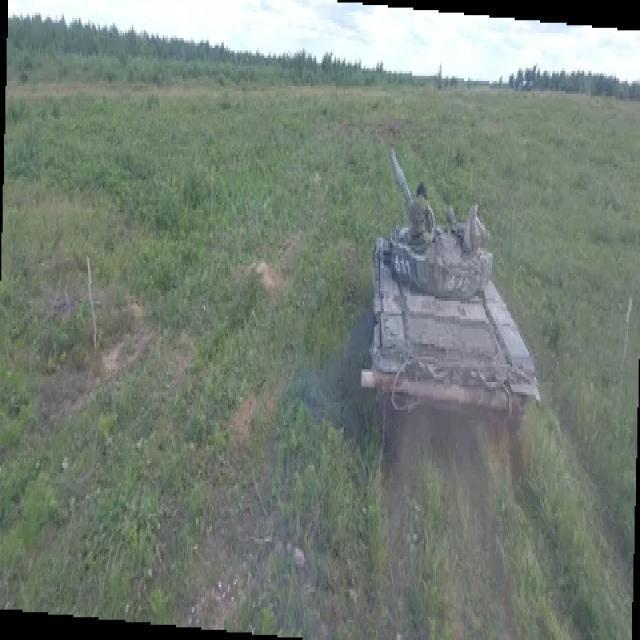MIL_MBT: (360, 146, 540, 436)
